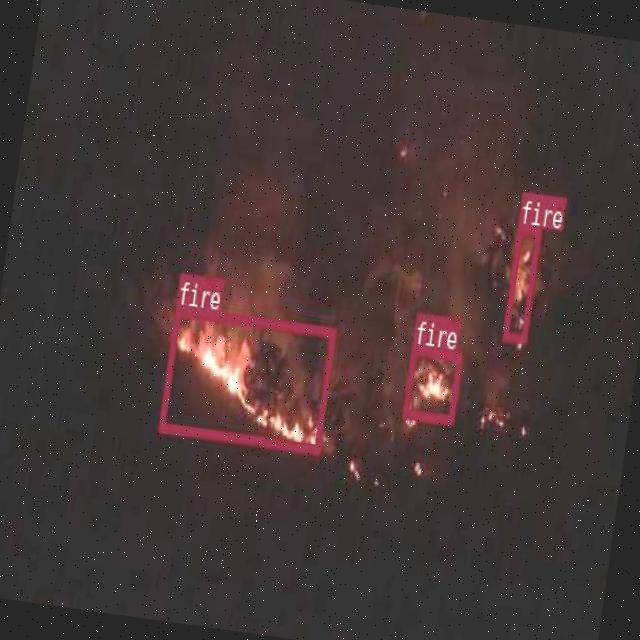fire: (158, 306, 336, 453), (402, 343, 463, 422), (501, 224, 541, 341)
